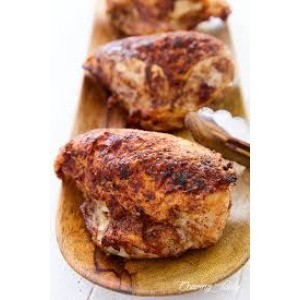chicken breast_brain food: (65, 155, 221, 255), (119, 39, 215, 126)
